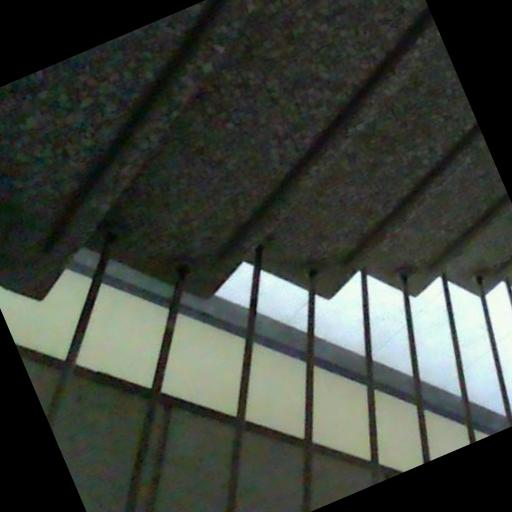stairs: (51, 0, 511, 296)
